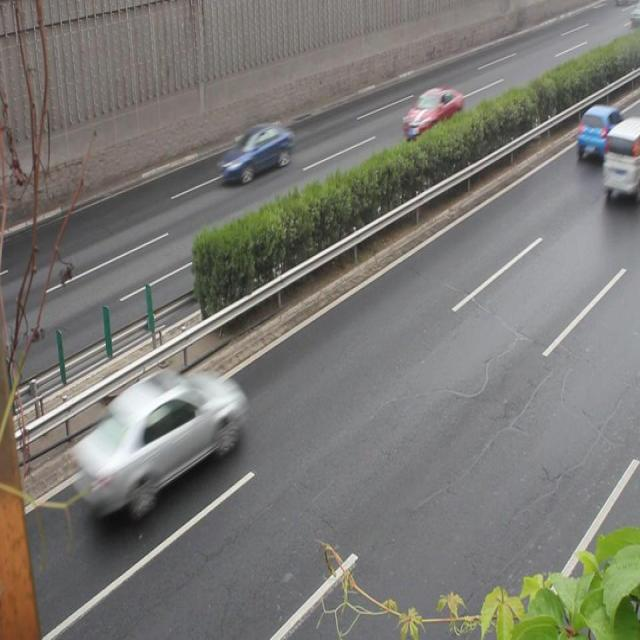car: (73, 368, 242, 511), (219, 125, 293, 182), (400, 86, 462, 140), (572, 105, 621, 162)
truck: (597, 122, 640, 198)
